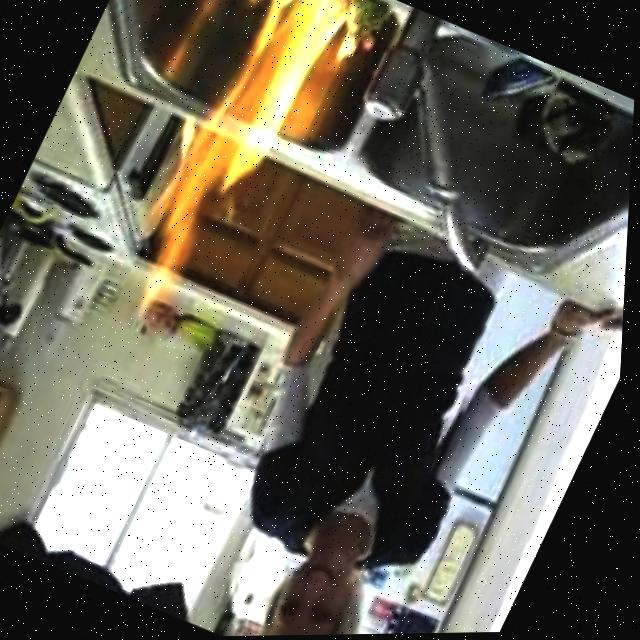Fire: (78, 0, 378, 368)
